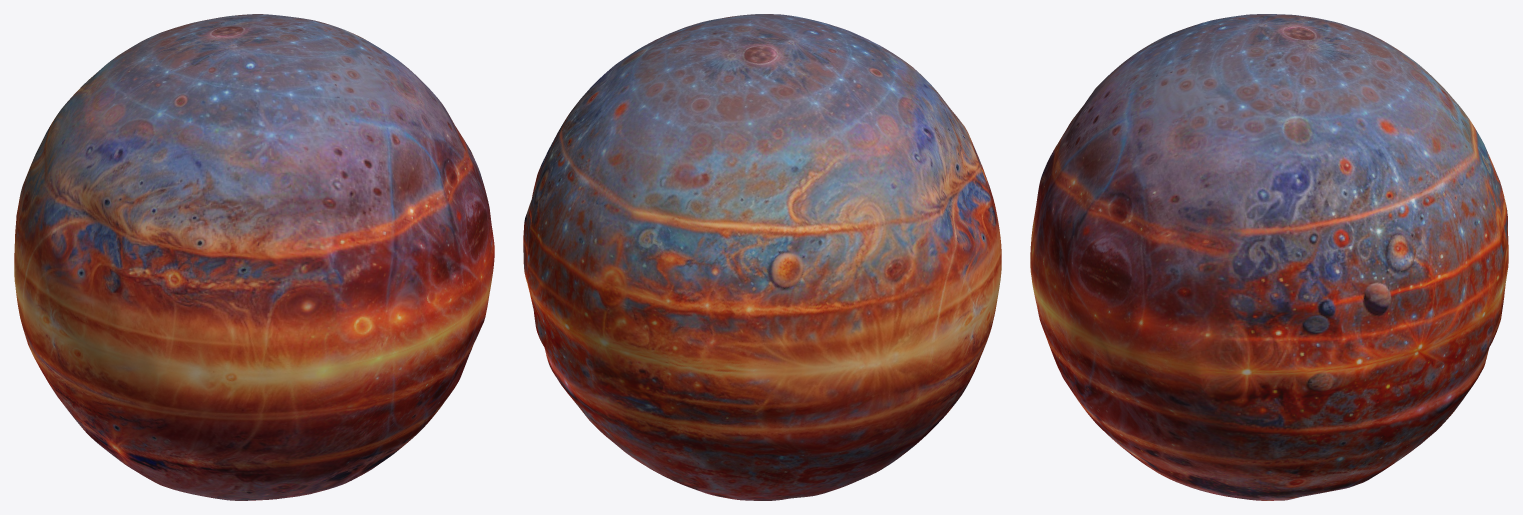
The model's file is Nibiru.glb.
3 renders of one model, left to right at view 1: azimuth 30°, elevation 25°; view 2: azimuth 150°, elevation 25°; view 3: azimuth 270°, elevation 25°, orthographic.
Size of the model in its own units: 1.18 by 1.2 by 1.18.
1 material, 1 textured.
